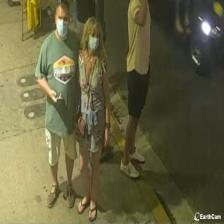person: (35, 2, 81, 207), (76, 17, 110, 220)
